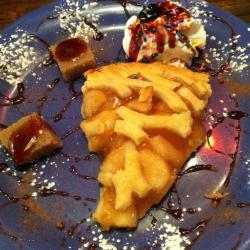apple_pie: (79, 63, 213, 235)
icecream: (121, 8, 209, 72)
